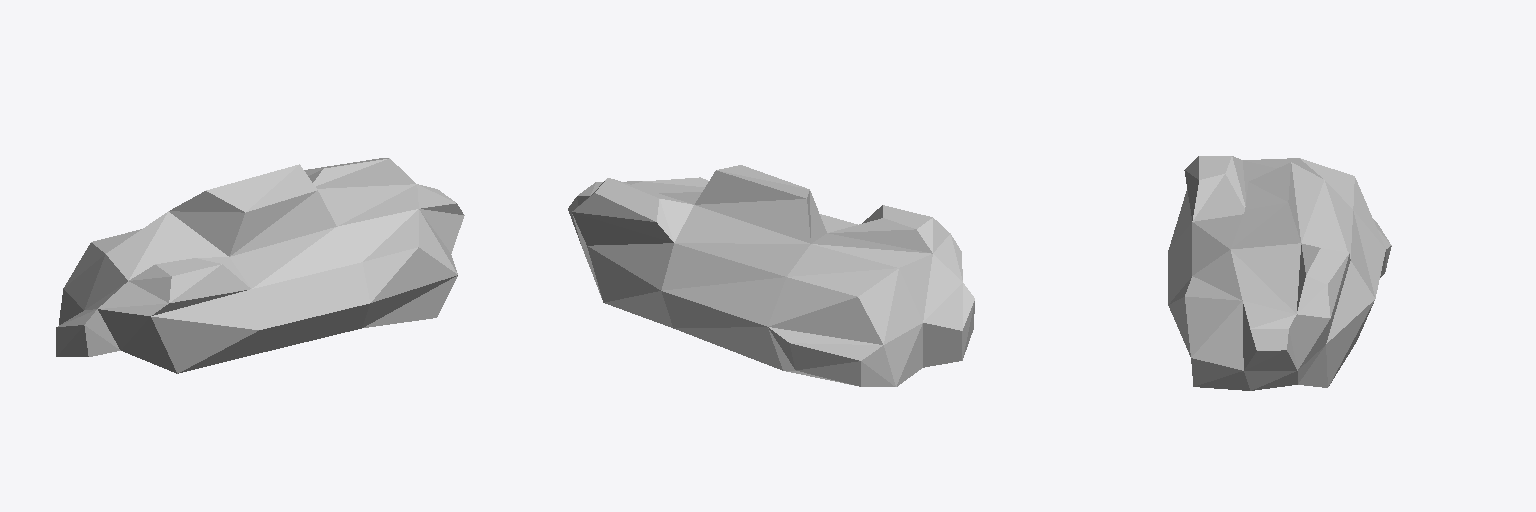
The model's file is cloud.obj.
3 renders of one model, left to right at view 1: azimuth 30°, elevation 25°; view 2: azimuth 150°, elevation 25°; view 3: azimuth 270°, elevation 25°, orthographic.
Size of the model in its own units: 4.3 by 1.61 by 2.11.